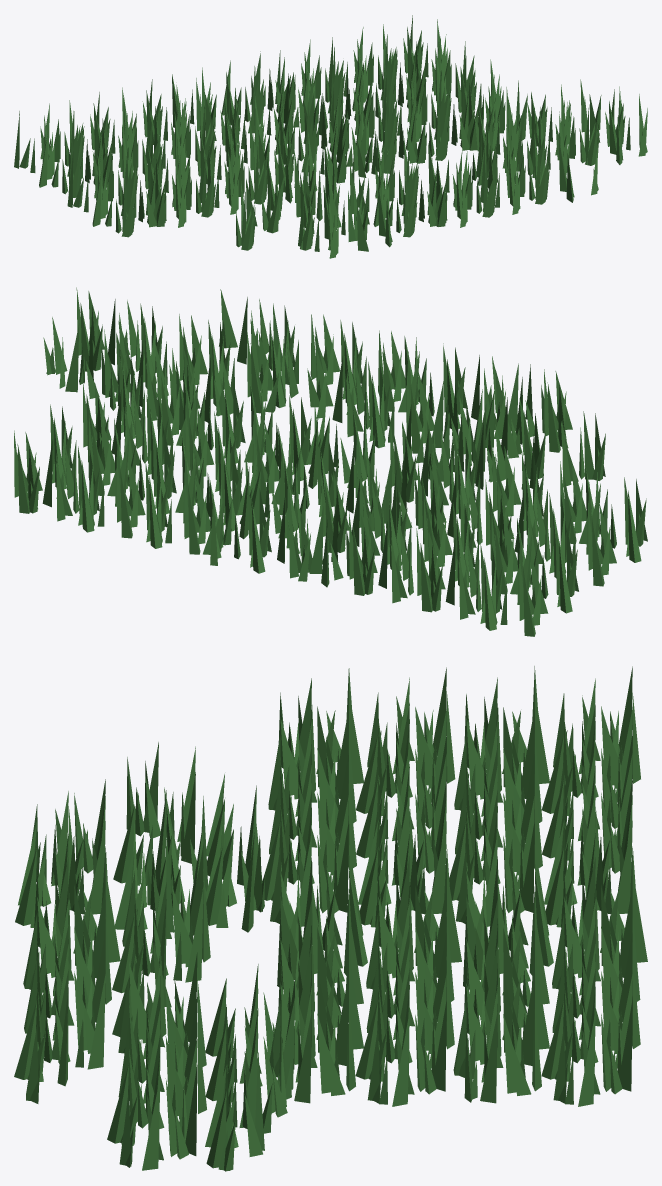
File: grass big.fbx
3 renders of one model, top to bottom at view 1: azimuth 30°, elevation 25°; view 2: azimuth 150°, elevation 25°; view 3: azimuth 270°, elevation 25°, orthographic. The views are drawn at different scales.
Parts seen in each view (by area): view 1: no part large enough to name; view 2: no part large enough to name; view 3: pCone719, pCone87, pCone225, pCone574, pCone653, pCone84, pCone228, pCone335, pCone501, pCone611, pCone232, pCone80 (+18 smaller).
Boxes of the visible parts, box(x1,y1,x2,y2) form: pCone719: box(142, 1076, 160, 1170); pCone87: box(480, 1010, 497, 1103); pCone225: box(294, 1011, 311, 1103); pCone574: box(87, 974, 105, 1069); pCone653: box(15, 846, 37, 925); pCone84: box(578, 1011, 595, 1106); pCone228: box(392, 1010, 409, 1106); pCone335: box(431, 821, 446, 913); pCone501: box(617, 821, 632, 913); pCone611: box(185, 887, 203, 982); pCone232: box(355, 1000, 378, 1079); pCone80: box(541, 1000, 563, 1079).
Size of the model in its own units: 22.77 by 2.37 by 14.49.
